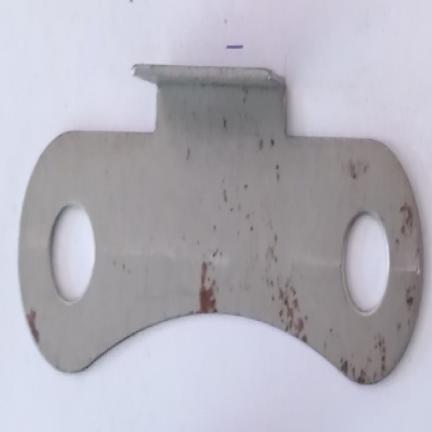besi_tidak_karat: (18, 65, 425, 384), (132, 67, 284, 86)
karat: (199, 262, 216, 312), (26, 310, 38, 342)
